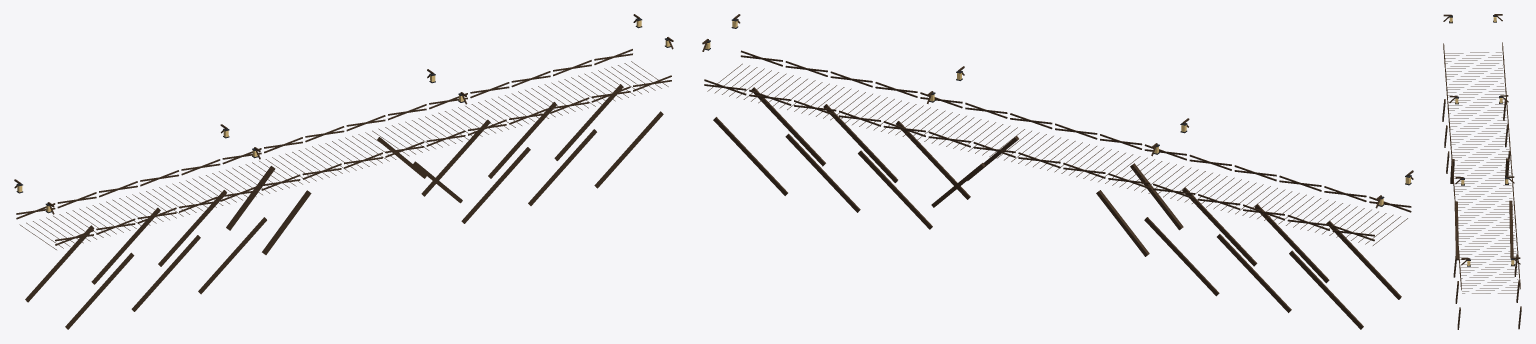
Rendered from SM_Bridge_LakeWalk_NoCol.fbx.
3 renders of one model, left to right at view 1: azimuth 30°, elevation 25°; view 2: azimuth 150°, elevation 25°; view 3: azimuth 270°, elevation 25°, orthographic. The views are drawn at different scales.
Visible parts, largest first — view 1: SM_Bridge_LakeWalk_NoCol; view 2: SM_Bridge_LakeWalk_NoCol; view 3: SM_Bridge_LakeWalk_NoCol.
Boxes of the visible parts, x1,y1,x2,y2 form: SM_Bridge_LakeWalk_NoCol: [14, 14, 673, 329]; SM_Bridge_LakeWalk_NoCol: [702, 14, 1413, 329]; SM_Bridge_LakeWalk_NoCol: [1442, 14, 1521, 329].
Size of the model in its own units: 30.13 by 5.89 by 4.07.
